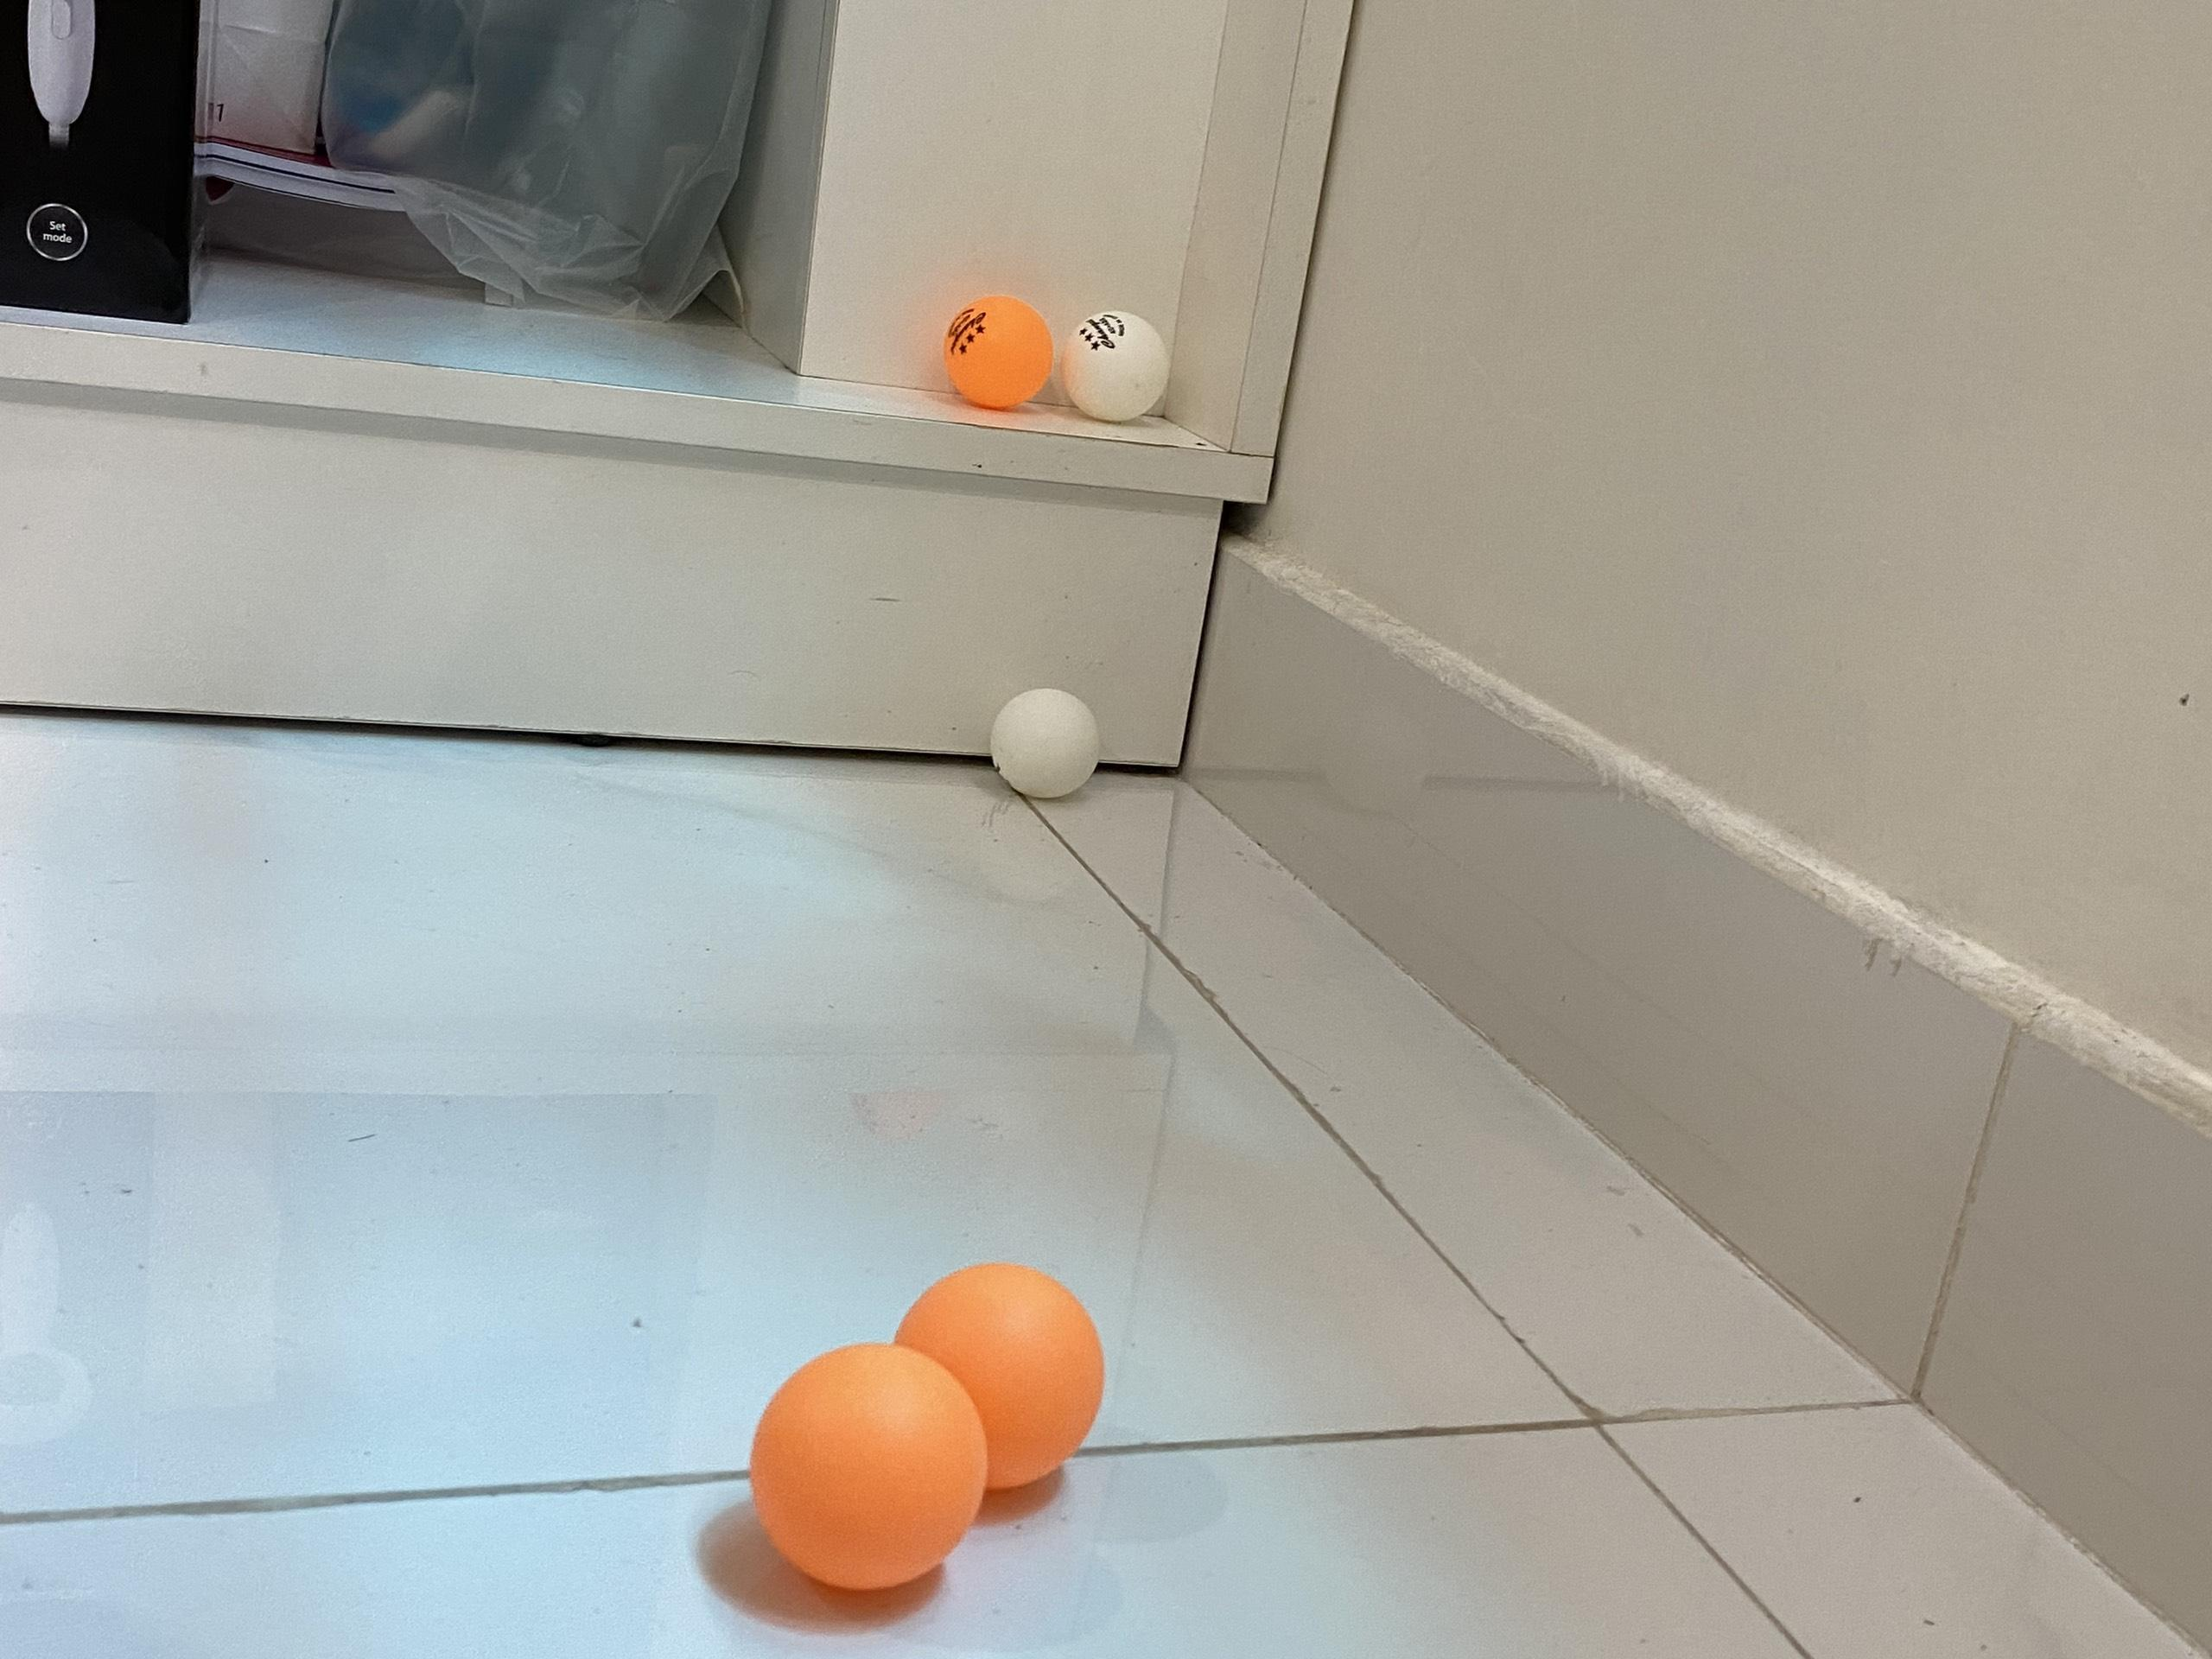oball: (752, 1351, 989, 1584), (880, 1262, 1106, 1493), (942, 288, 1050, 404)
